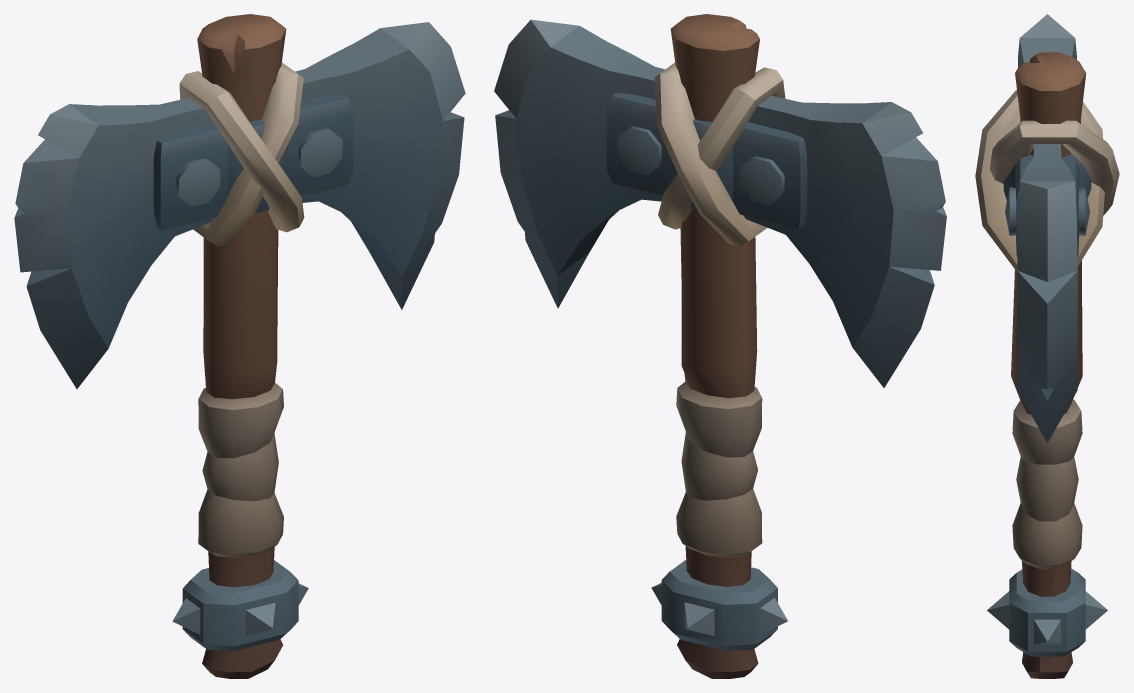
The model's file is XW_axe_A.glb.
3 renders of one model, left to right at view 1: azimuth 30°, elevation 25°; view 2: azimuth 150°, elevation 25°; view 3: azimuth 270°, elevation 25°, orthographic. The views are drawn at different scales.
Parts seen in each view (by area): view 1: axe_A; view 2: axe_A; view 3: axe_A.
Boxes of the visible parts, <box> form: axe_A: <box>14,14,465,678</box>; axe_A: <box>494,14,946,678</box>; axe_A: <box>975,14,1119,678</box>.
Size of the model in its own units: 0.8558 by 1.16 by 0.2504.
